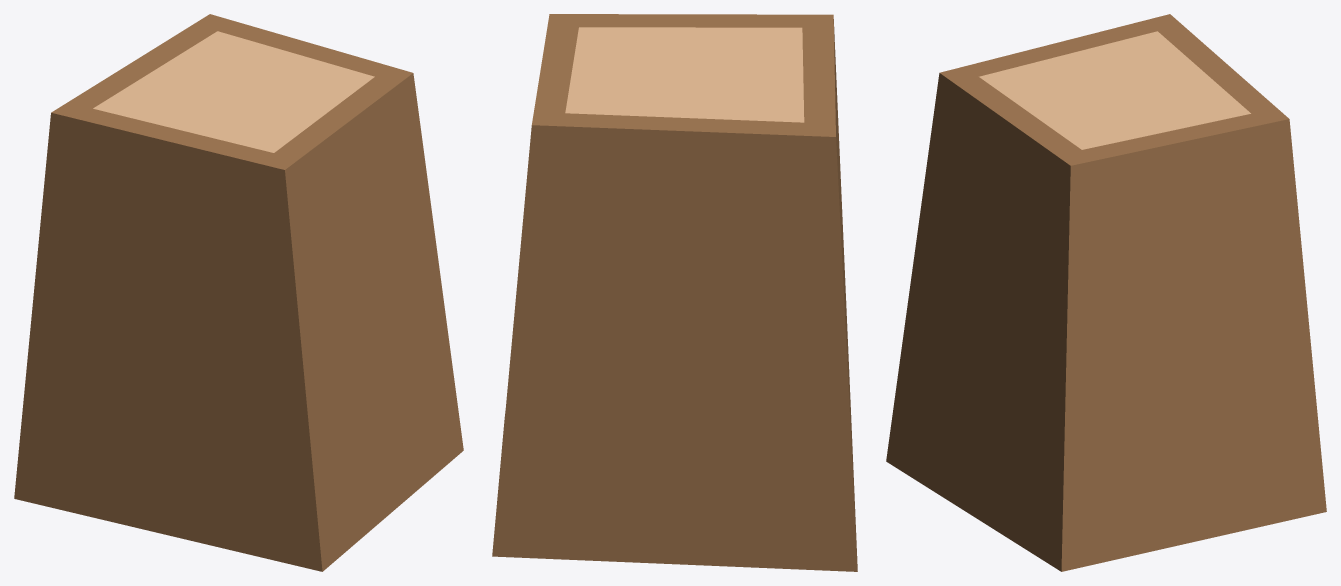
File: Fir_Stump_02.fbx
The picture shows the model from 3 angles, left to right: view 1: azimuth 30°, elevation 25°; view 2: azimuth 150°, elevation 25°; view 3: azimuth 270°, elevation 25°; orthographic projection. The views are drawn at different scales.
Visible parts, largest first — view 1: Fir_Stump_02; view 2: Fir_Stump_02; view 3: Fir_Stump_02.
Boxes of the visible parts, x1,y1,x2,y2 form: Fir_Stump_02: (14, 14, 463, 571); Fir_Stump_02: (492, 14, 857, 571); Fir_Stump_02: (886, 14, 1326, 571).
Size of the model in its own units: 23.71 by 22.72 by 23.5.
